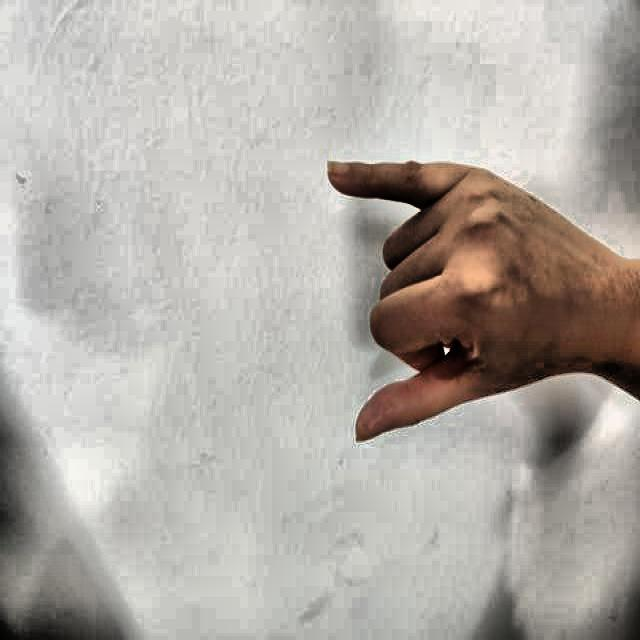Oi: (306, 112, 592, 484)
